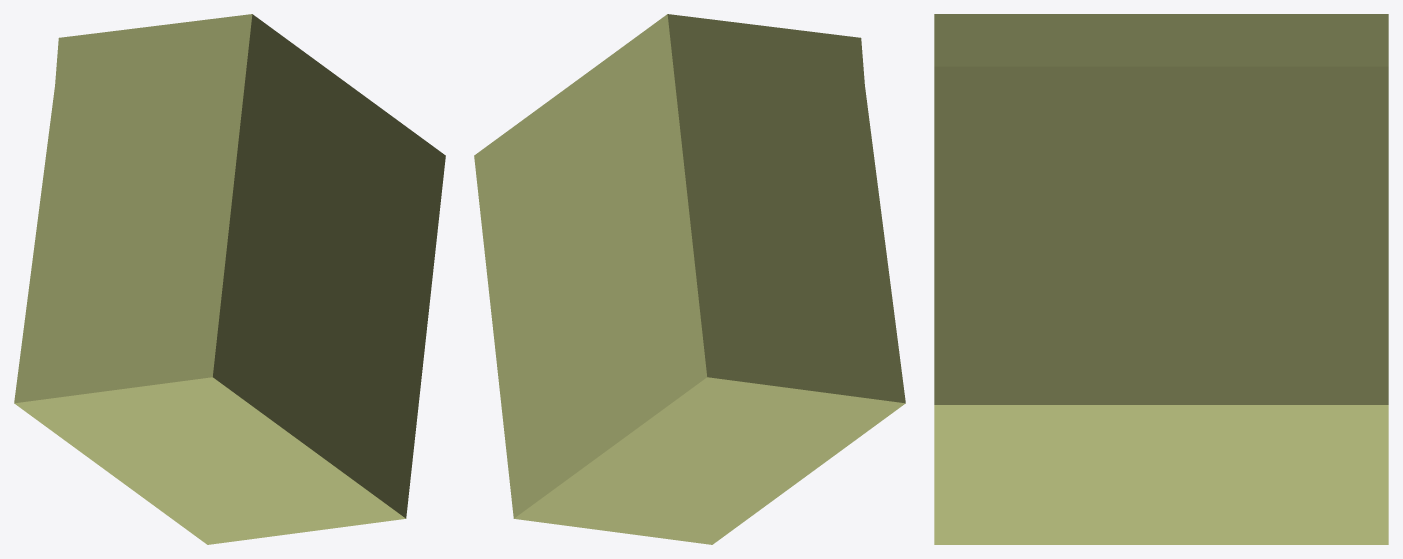
The picture shows the model from 3 angles, left to right: view 1: azimuth 30°, elevation 25°; view 2: azimuth 150°, elevation 25°; view 3: azimuth 270°, elevation 25°; orthographic projection. The views are drawn at different scales.
Parts seen in each view (by area): view 1: 0_0_1_3_2_1_2_1_3; view 2: 0_0_1_3_2_1_2_1_3; view 3: 0_0_1_3_2_1_2_1_3.
Boxes of the visible parts, box(x1,y1,x2,y2) form: 0_0_1_3_2_1_2_1_3: box(14, 14, 445, 544); 0_0_1_3_2_1_2_1_3: box(474, 14, 905, 544); 0_0_1_3_2_1_2_1_3: box(934, 14, 1388, 544).
Bounding box in the file's own units: 6.4 × 9.67 × 9.
